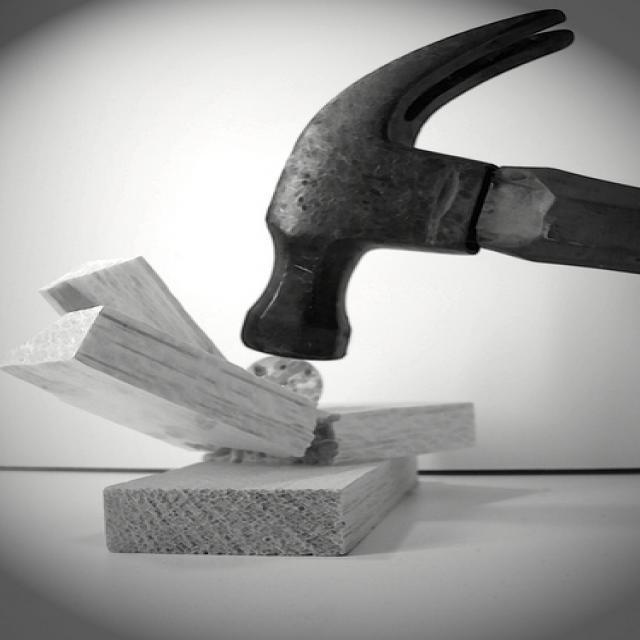hammer: (227, 3, 640, 374)
